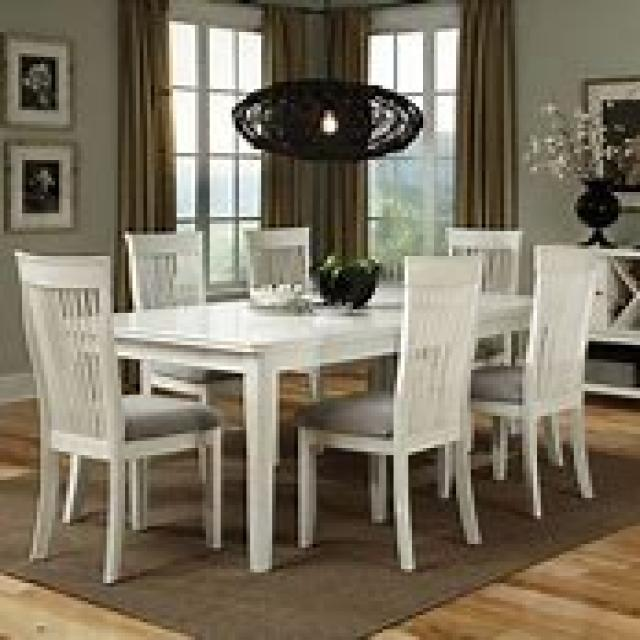chair: (11, 245, 224, 583), (290, 252, 482, 572)
table: (66, 278, 541, 572)
